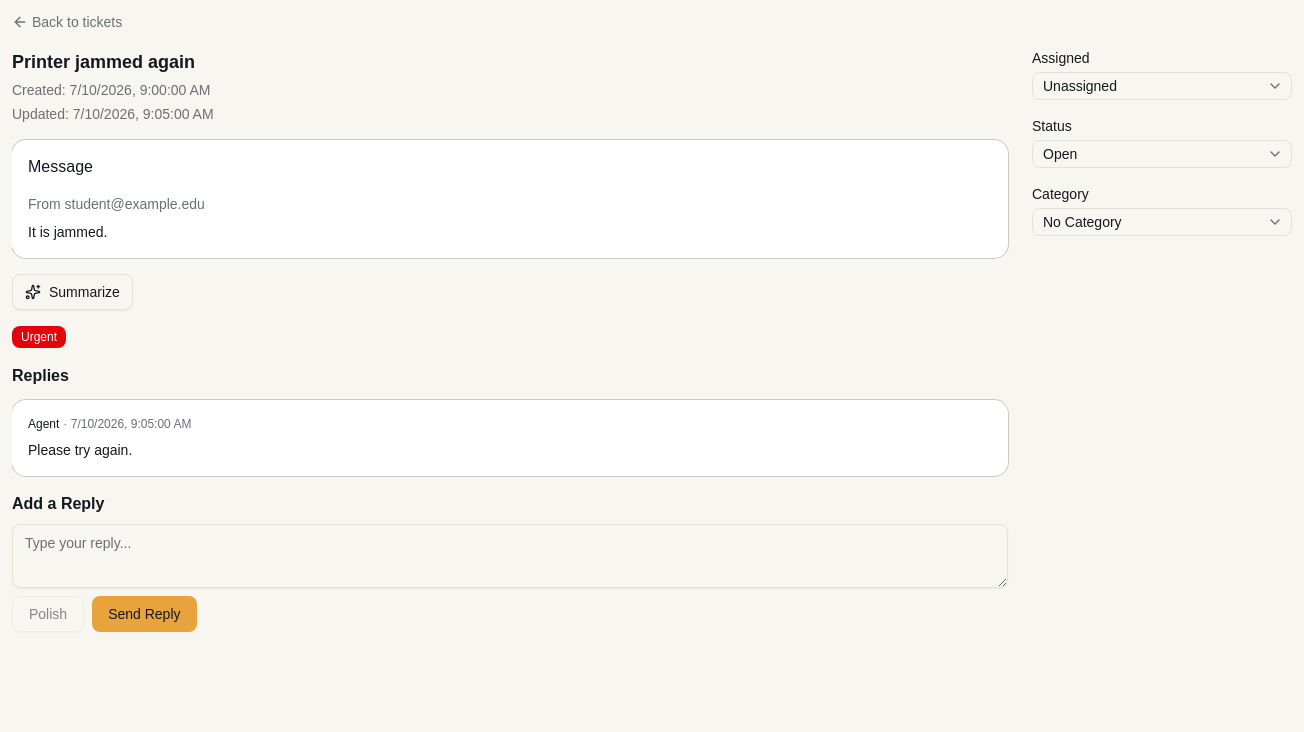
TicketDetailPage › updates the status when a new one is selected
This screenshot has width=1304, height=732.
Step 1. Click the dropdown named "ticket status" → (1060, 154), box [1032,140,1292,168]
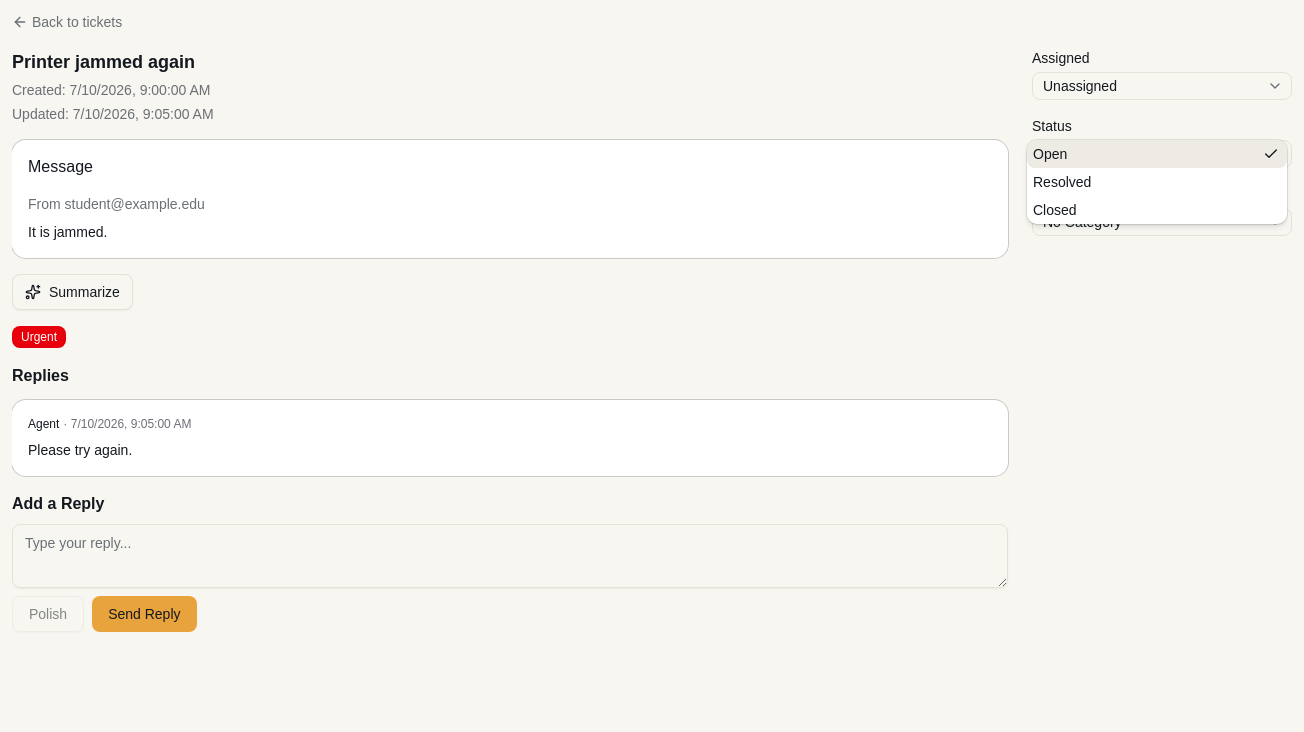
Step 2. Click the option "resolved" → (1062, 182), box [1033,174,1091,190]
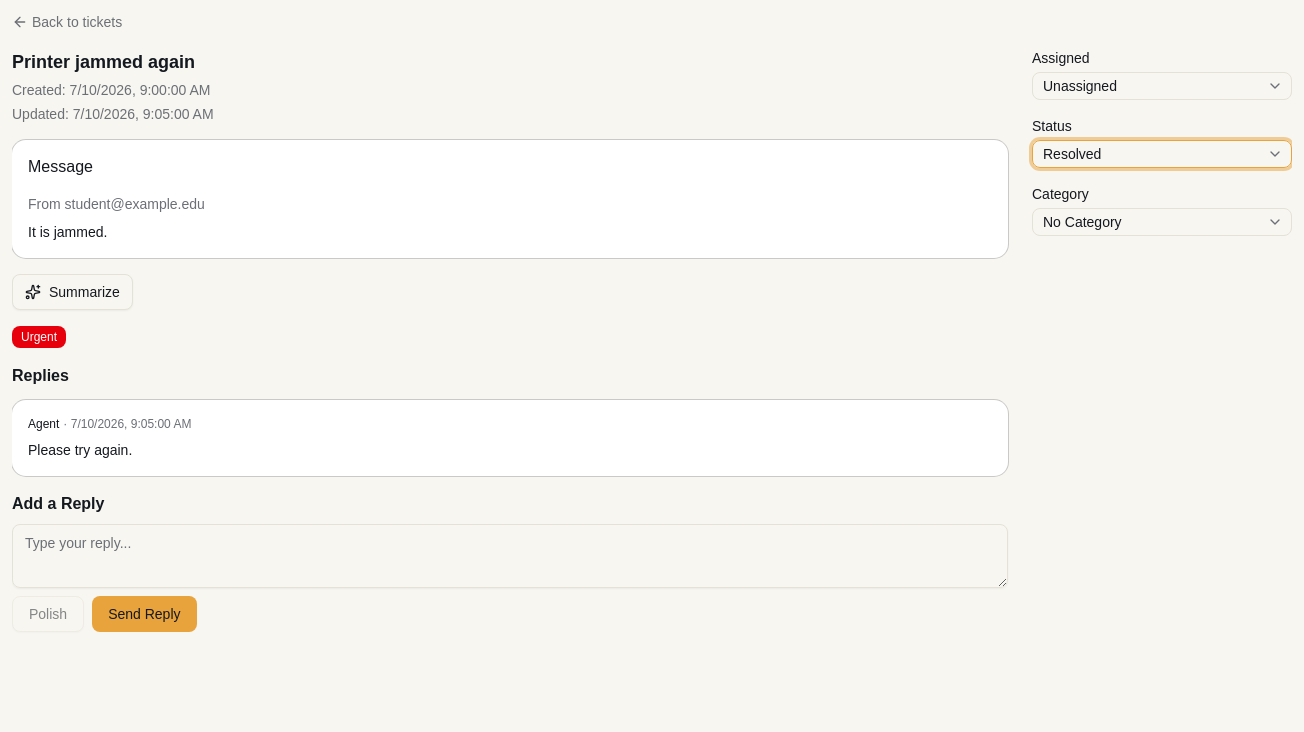
Check: the dropdown named "ticket status" shows "resolved", box [1032,140,1292,168]
